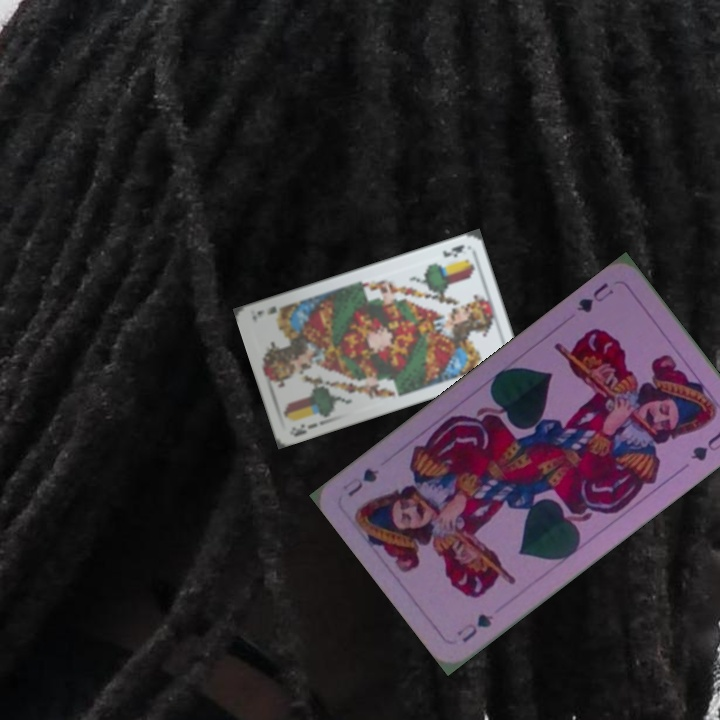EK: (287, 419, 320, 439), (439, 240, 467, 260)
GU: (572, 278, 616, 316), (452, 609, 496, 646)
